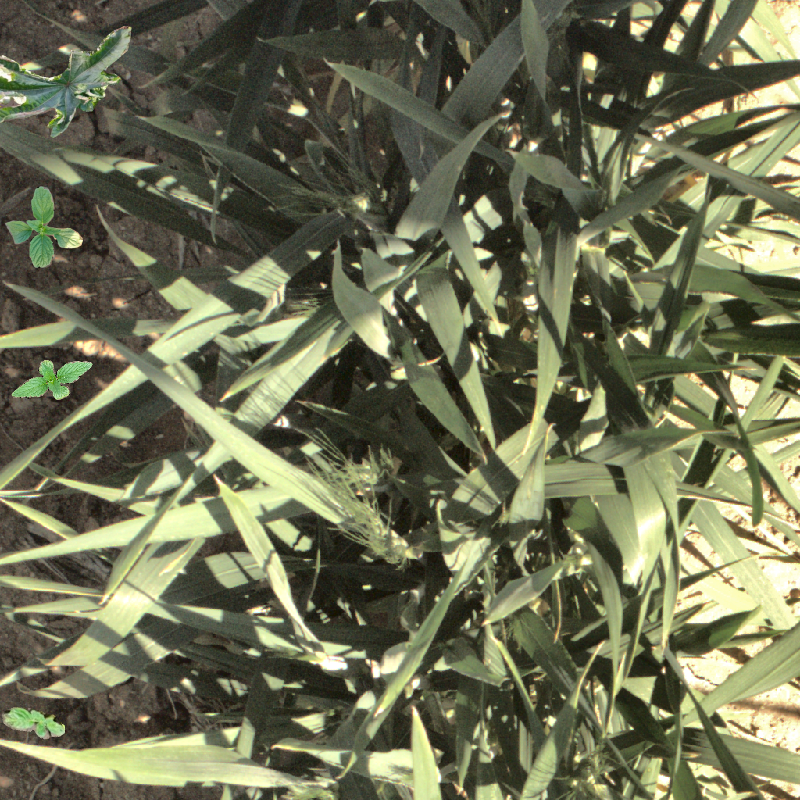spikelet: (341, 498, 416, 567), (759, 713, 800, 758), (349, 176, 384, 219)
weed: (1, 26, 132, 138), (5, 186, 83, 268), (11, 356, 94, 405), (3, 704, 65, 742)
